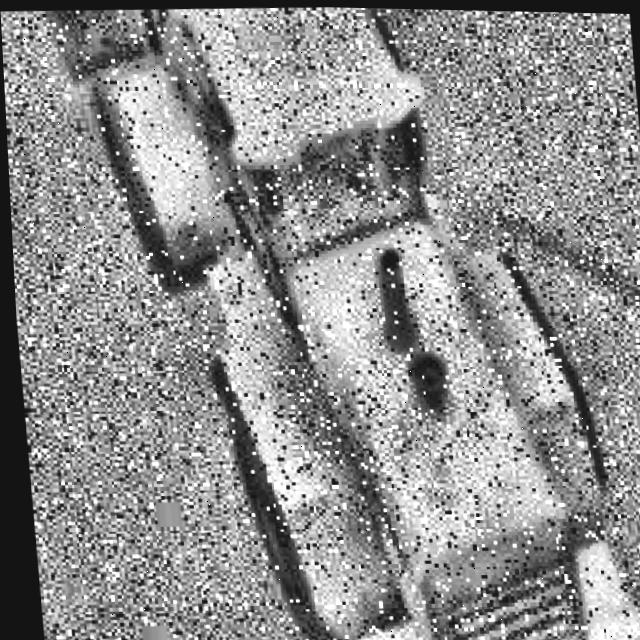buldozerpayloadergrader: (23, 0, 640, 640)
